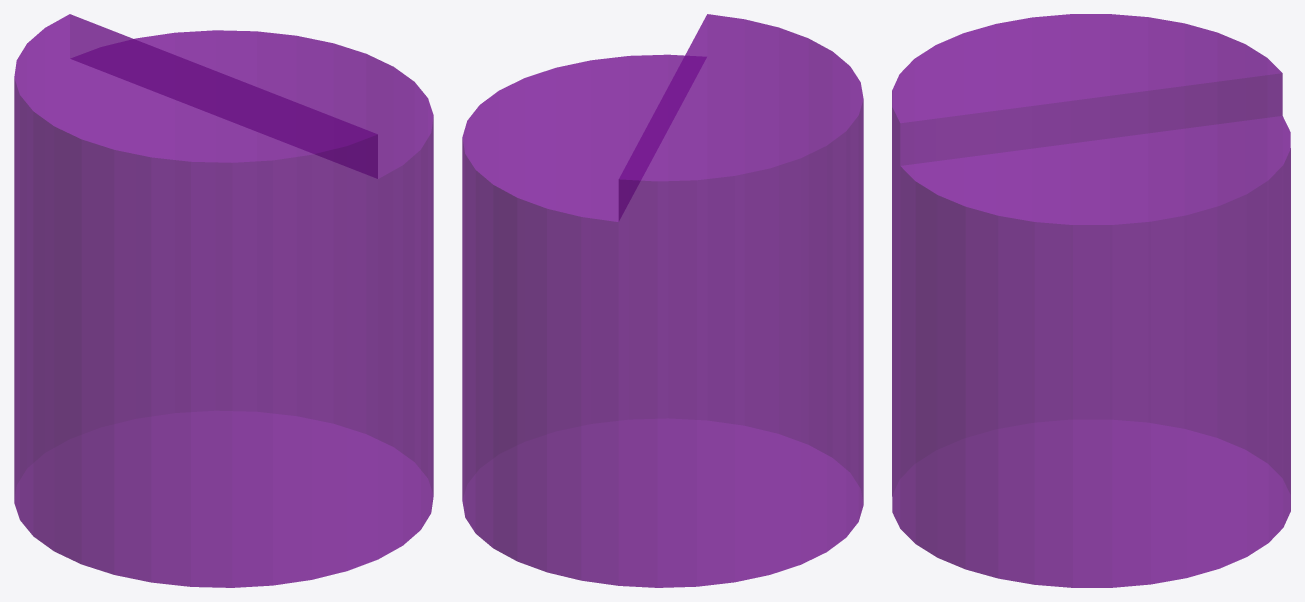
Rendered from Contenido_Empaque_Gelatina.fbx.
3 renders of one model, left to right at view 1: azimuth 30°, elevation 25°; view 2: azimuth 150°, elevation 25°; view 3: azimuth 270°, elevation 25°, orthographic. The views are drawn at different scales.
Visible parts, largest first — view 1: Cylinder.002; view 2: Cylinder.002; view 3: Cylinder.002.
Part boxes in pixels (x1,y1,x2,y2): Cylinder.002: (14, 14, 433, 587); Cylinder.002: (462, 14, 863, 587); Cylinder.002: (892, 14, 1290, 587).
Bounding box in the file's own units: 5110 × 5734 × 5110.
